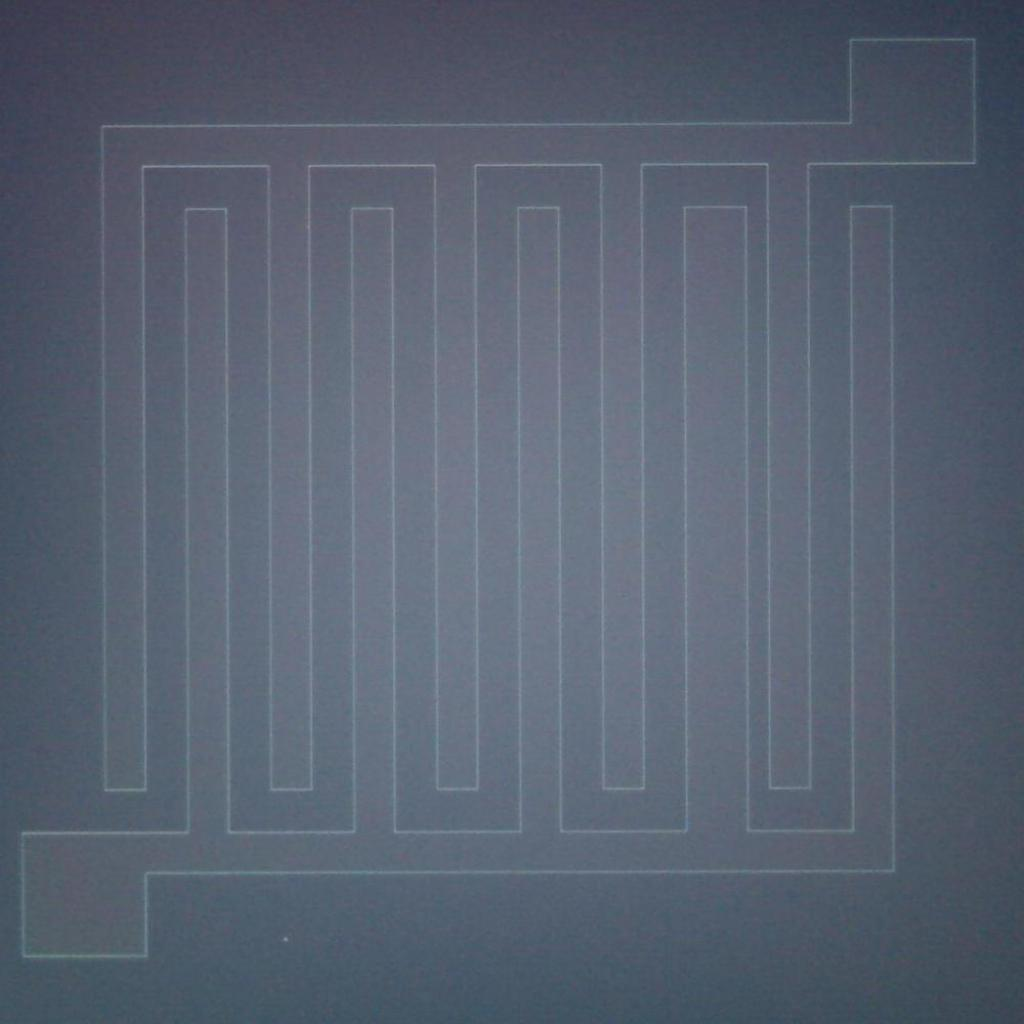fat circuit: (677, 193, 753, 851)
